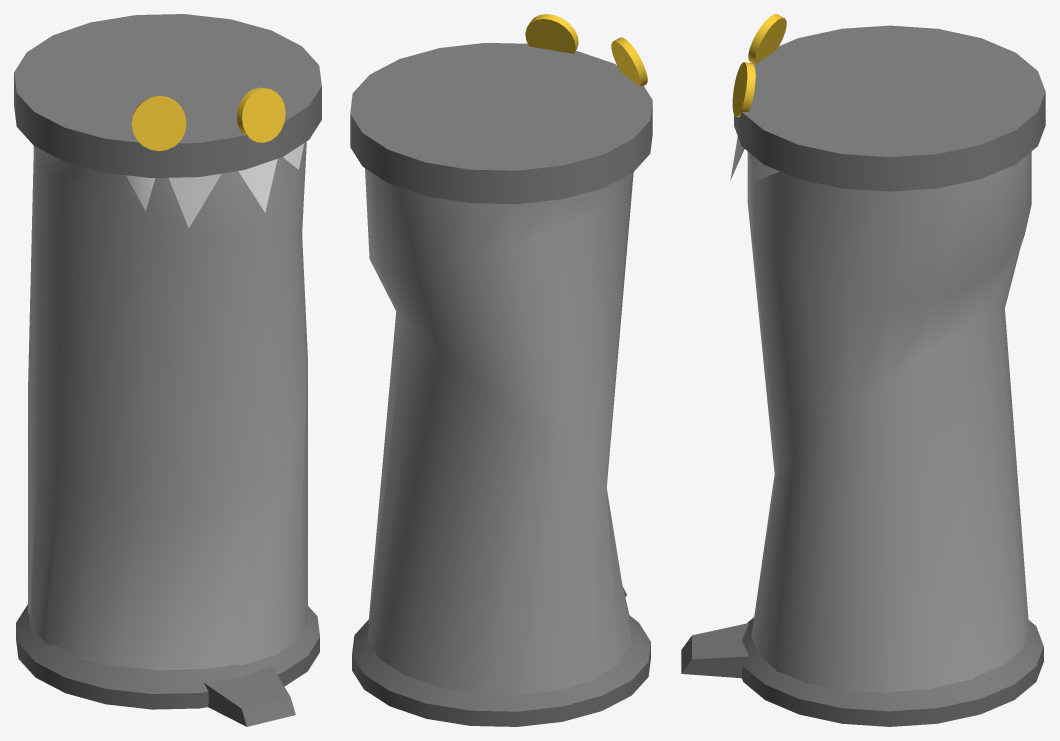
Rendered from geo_bin.fbx.
3 views of the same model, side by side, from view 1: azimuth 30°, elevation 25°; view 2: azimuth 150°, elevation 25°; view 3: azimuth 270°, elevation 25° (orthographic). The views are drawn at different scales.
Parts seen in each view (by area): view 1: geo_bin; view 2: geo_bin; view 3: geo_bin.
Part boxes in pixels (x1,y1,x2,y2): geo_bin: [14, 14, 321, 726]; geo_bin: [350, 14, 652, 726]; geo_bin: [681, 14, 1045, 726].
Size of the model in its own units: 72.65 by 158 by 84.9.
1 material, 1 textured.
